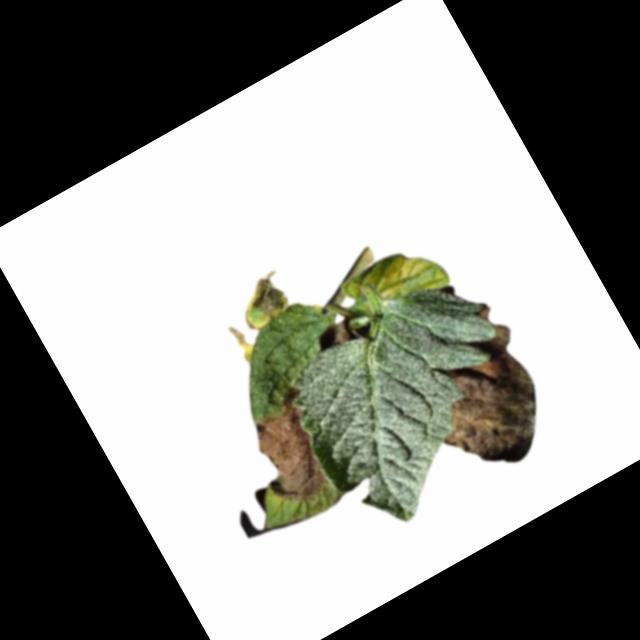Late_blight: (395, 302, 568, 489), (232, 385, 347, 512), (229, 268, 296, 334), (309, 317, 354, 355), (224, 320, 260, 365)
healthy: (266, 259, 559, 546)
